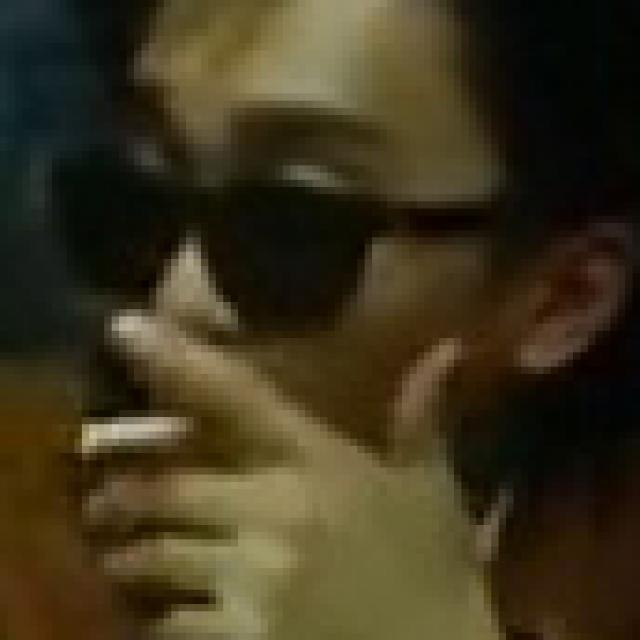smoking: (72, 414, 200, 460)
